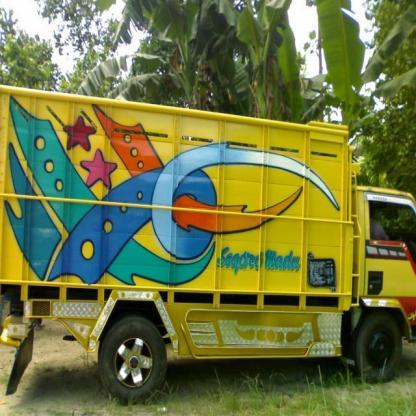truck: (2, 82, 416, 397)
